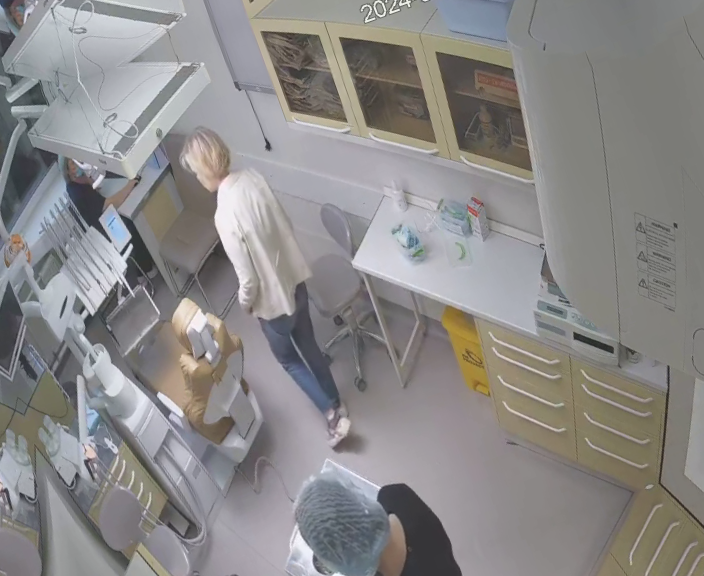Empty: (118, 280, 281, 479)
